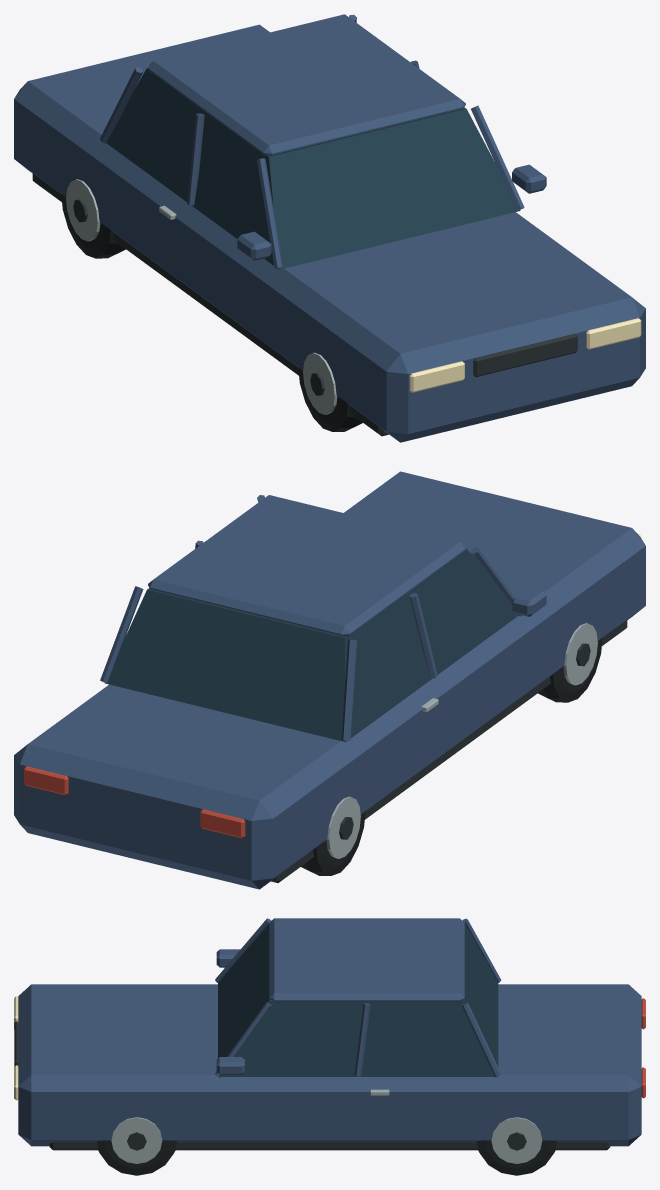
The model's file is car-sedan-03.glb.
3 renders of one model, top to bottom at view 1: azimuth 30°, elevation 25°; view 2: azimuth 150°, elevation 25°; view 3: azimuth 270°, elevation 25°, orthographic. The views are drawn at different scales.
Visible parts, largest first — view 1: Body, Glass, Roof, Sill, FrontGrille, Rim_FR, Rim_RR, Tyre_RR, Tyre_FR, Lamp_Head, Lamp_Head.001, WindowPillar (+5 smaller); view 2: Body, Glass, Roof, Sill, Rim_FR, Rim_RR, Tyre_FR, Tyre_RR, WindowPillar.002, WindowPillar.005, Lamp_Tail, Lamp_Tail.001 (+3 smaller); view 3: Body, Glass, Roof, Sill, Rim_RL, Rim_FL, Tyre_FL, Tyre_RL, WindowPillar.005, WindowPillar.004, WindowPillar.003, Mirror.001 (+1 smaller).
Boxes of the visible parts, x1,y1,x2,y2 form: Body: (14,24,645,442); Glass: (106,68,520,269); Roof: (148,14,465,155); Sill: (32,173,388,436); FrontGrille: (473,334,577,376); Rim_FR: (303,352,337,414); Rim_RR: (66,179,100,241); Tyre_RR: (61,194,125,258); Tyre_FR: (298,367,362,431); Lamp_Head: (409,361,464,392); Lamp_Head.001: (586,318,641,349); WindowPillar: (257,158,283,269); Body: (14,471,645,889); Glass: (105,548,518,742); Roof: (148,495,465,636); Sill: (271,620,627,882); Rim_FR: (563,623,597,685); Rim_RR: (326,796,360,858); Tyre_FR: (538,638,602,702); Tyre_RR: (301,811,365,875); WindowPillar.002: (341,639,356,740); WindowPillar.005: (100,586,143,683); Lamp_Tail: (200,809,245,838); Lamp_Tail.001: (24,766,68,795); Body: (18,984,641,1146); Glass: (218,924,498,1076); Roof: (269,918,464,1001); Sill: (49,1142,610,1150); Rim_RL: (491,1117,542,1163); Rim_FL: (111,1117,162,1163); Tyre_FL: (97,1140,176,1175); Tyre_RL: (477,1140,556,1175); WindowPillar.005: (462,1002,501,1077); WindowPillar.004: (354,1003,370,1076); WindowPillar.003: (215,1002,271,1077); Mirror.001: (216,1057,244,1074).
Bounding box in the file's own units: 2.13 × 1.48 × 4.92.
